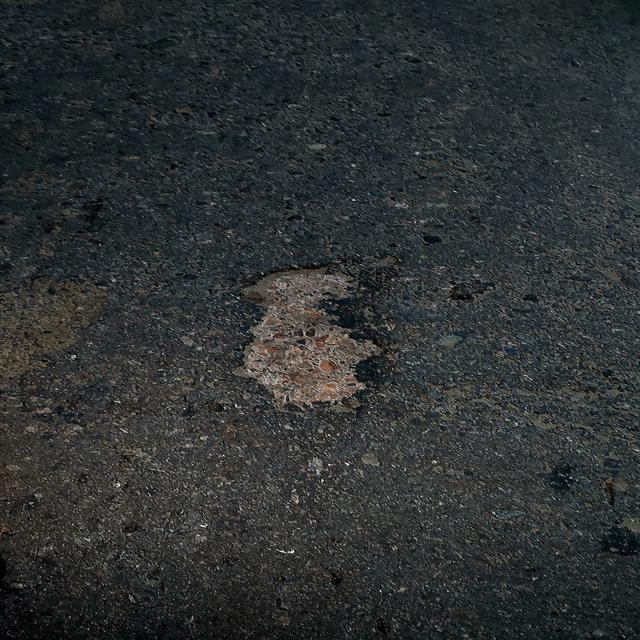Potholes: (239, 247, 374, 422)
